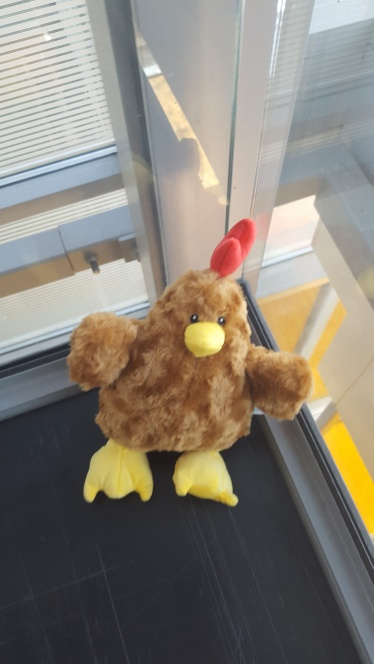chicken_front: (66, 216, 314, 510)
